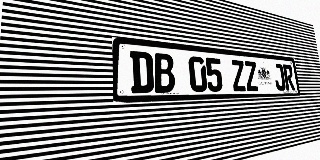0: (188, 56, 208, 92)
5: (205, 57, 223, 92)
B: (153, 53, 176, 93)
D: (130, 51, 154, 93)
J: (273, 63, 286, 91)
R: (283, 64, 295, 90)
Z: (230, 60, 247, 91), (244, 61, 259, 91)
